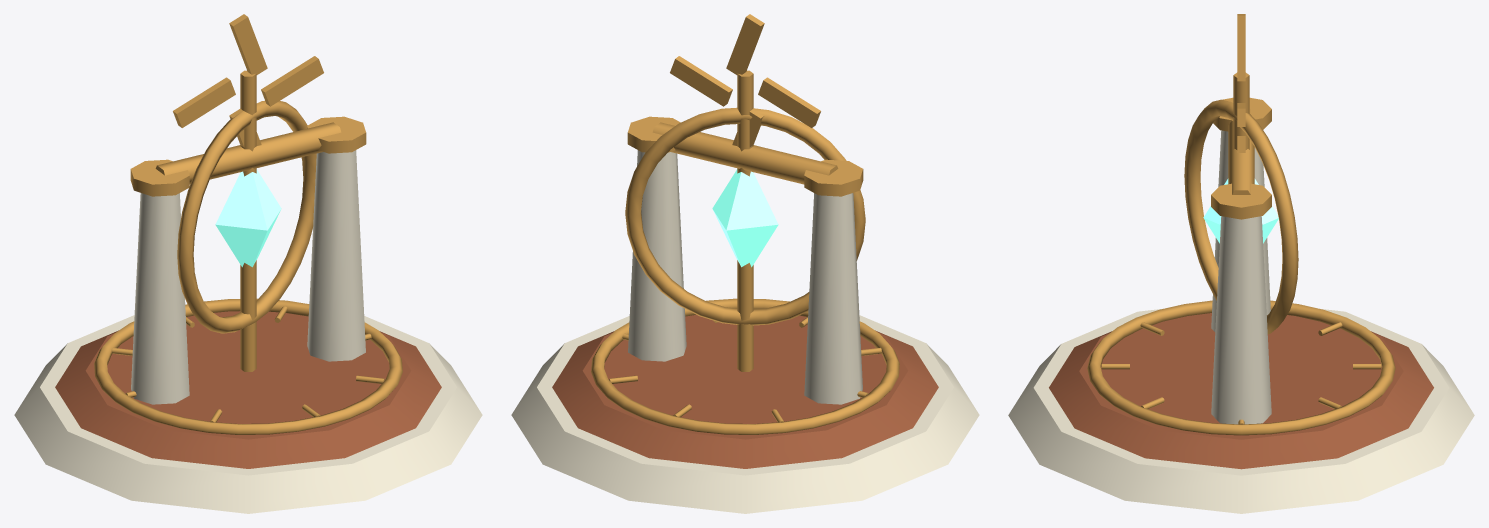
File: station-1.glb
3 views of the same model, side by side, from view 1: azimuth 30°, elevation 25°; view 2: azimuth 150°, elevation 25°; view 3: azimuth 270°, elevation 25° (orthographic).
Parts seen in each view (by area): view 1: chalk-sail-merged, ochre-ceramic-merged, aged-brass-merged, aether-glass-merged; view 2: chalk-sail-merged, ochre-ceramic-merged, aged-brass-merged, aether-glass-merged; view 3: chalk-sail-merged, ochre-ceramic-merged, aged-brass-merged, aether-glass-merged.
Boxes of the visible parts, x1,y1,x2,y2 form: chalk-sail-merged: (14, 150, 482, 513); ochre-ceramic-merged: (55, 311, 441, 468); aged-brass-merged: (94, 14, 402, 434); aether-glass-merged: (215, 169, 281, 267); chalk-sail-merged: (511, 150, 979, 513); ochre-ceramic-merged: (552, 315, 938, 468); aged-brass-merged: (591, 14, 899, 434); aether-glass-merged: (712, 169, 778, 267); chalk-sail-merged: (1008, 130, 1474, 513); ochre-ceramic-merged: (1049, 313, 1433, 469); aged-brass-merged: (1087, 14, 1395, 435); aether-glass-merged: (1203, 178, 1278, 243).
Size of the model in its own units: 4.6 by 4.34 by 4.6.
